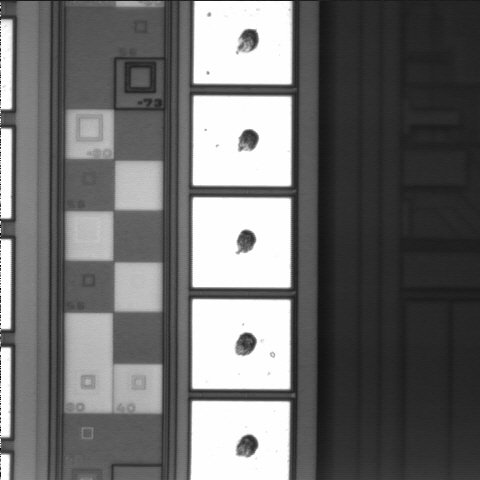pad: (193, 197, 291, 288), (193, 96, 291, 186), (192, 299, 290, 389)
